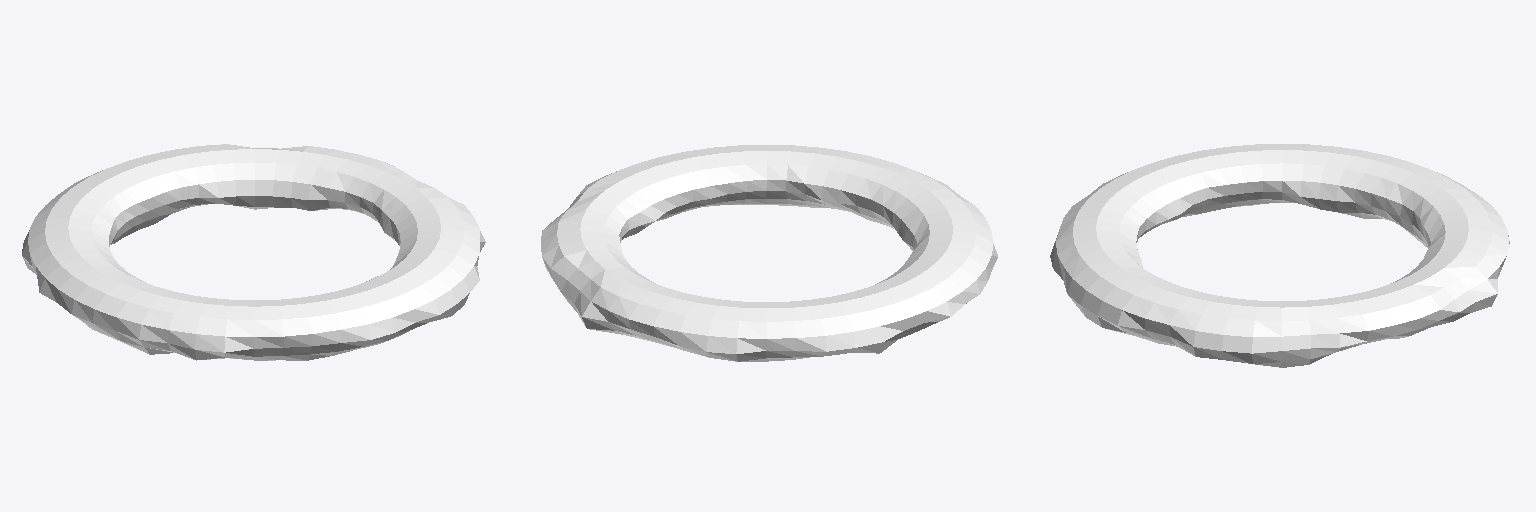
The model's file is chidori1.obj.
The picture shows the model from 3 angles: view 1: azimuth 30°, elevation 25°; view 2: azimuth 150°, elevation 25°; view 3: azimuth 270°, elevation 25°; orthographic projection.
Visible parts, largest first — view 1: Torus; view 2: Torus; view 3: Torus.
Part boxes in pixels (x1,y1,x2,y2): Torus: (22, 144, 485, 360); Torus: (541, 145, 997, 361); Torus: (1050, 144, 1509, 367).
Size of the model in its own units: 0.0321 by 0.0042 by 0.0319.